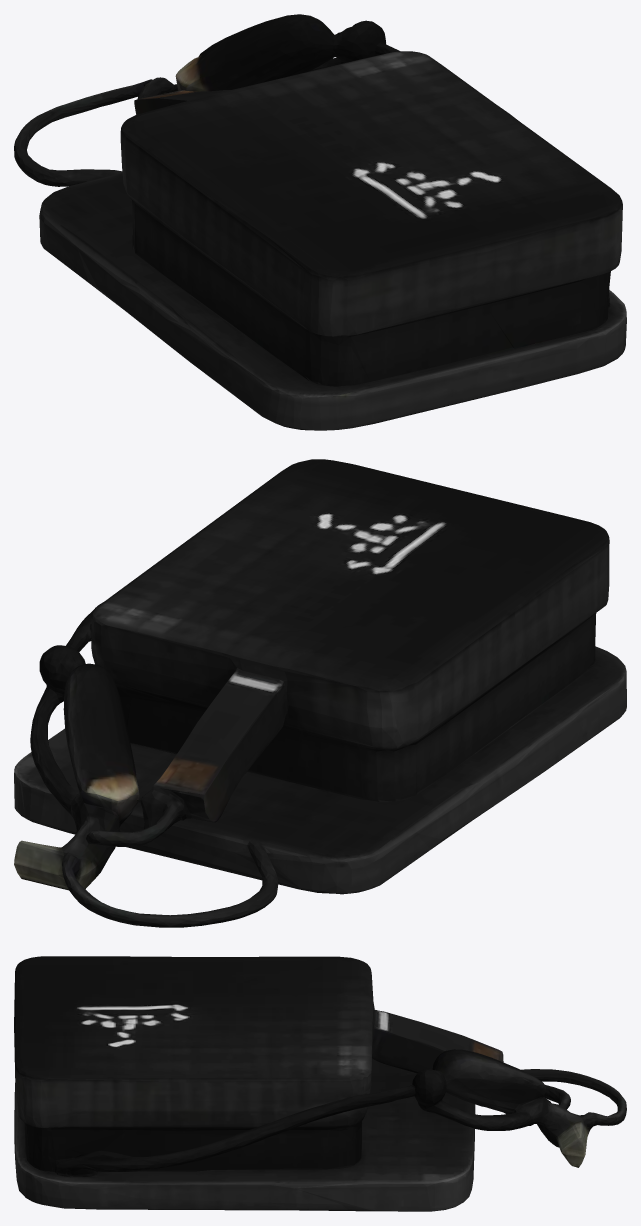
3 renders of one model, top to bottom at view 1: azimuth 30°, elevation 25°; view 2: azimuth 150°, elevation 25°; view 3: azimuth 270°, elevation 25°, orthographic. The views are drawn at different scales.
Parts seen in each view (by area): view 1: geometry_0; view 2: geometry_0; view 3: geometry_0.
Boxes of the visible parts, x1,y1,x2,y2 form: geometry_0: [14, 14, 626, 430]; geometry_0: [14, 459, 626, 927]; geometry_0: [14, 956, 626, 1211].
Size of the model in its own units: 0.6006 by 0.2297 by 0.9968.
1 material, 1 textured.
